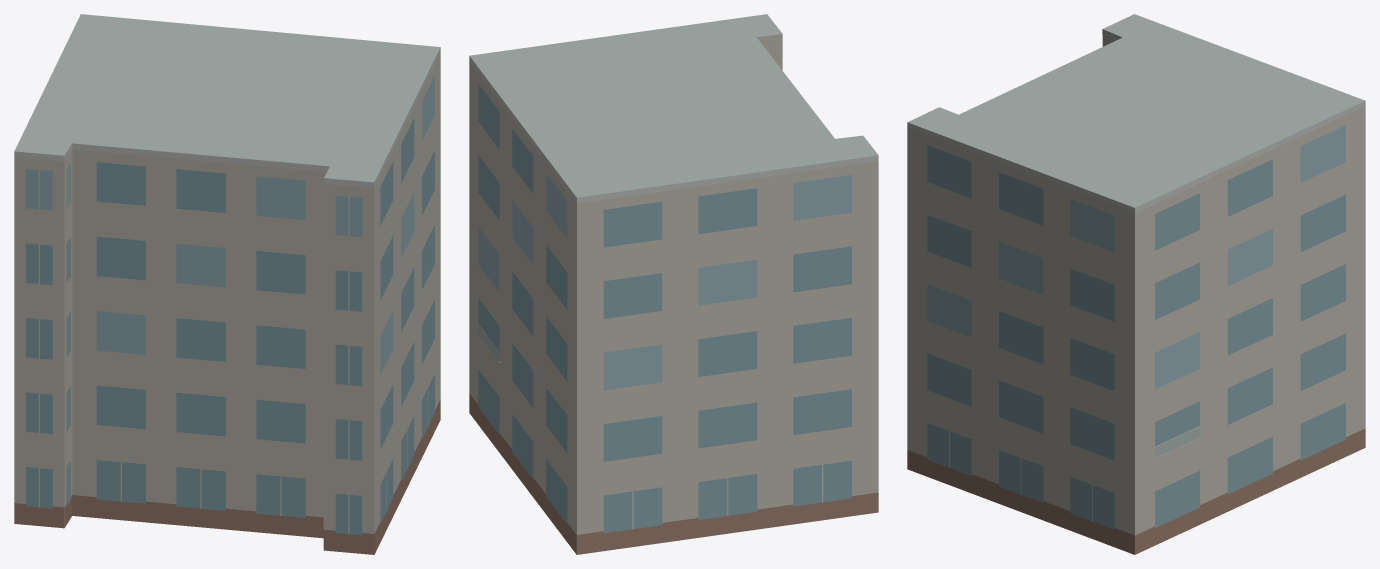
File: survey-upis-32533111.glb
3 renders of one model, left to right at view 1: azimuth 30°, elevation 25°; view 2: azimuth 150°, elevation 25°; view 3: azimuth 270°, elevation 25°, orthographic. The views are drawn at different scales.
Parts seen in each view (by area): view 1: survey-upis-32533111.tmp; view 2: survey-upis-32533111.tmp; view 3: survey-upis-32533111.tmp.
Boxes of the visible parts, x1,y1,x2,y2 form: survey-upis-32533111.tmp: [14, 14, 440, 554]; survey-upis-32533111.tmp: [469, 14, 878, 554]; survey-upis-32533111.tmp: [907, 14, 1365, 554].
Bounding box in the file's own units: 18.29 × 15.25 × 18.26.
